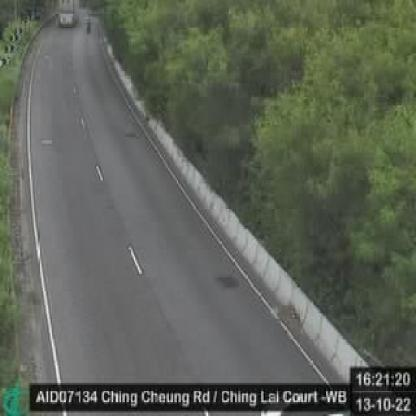Truck: (55, 0, 79, 28)
